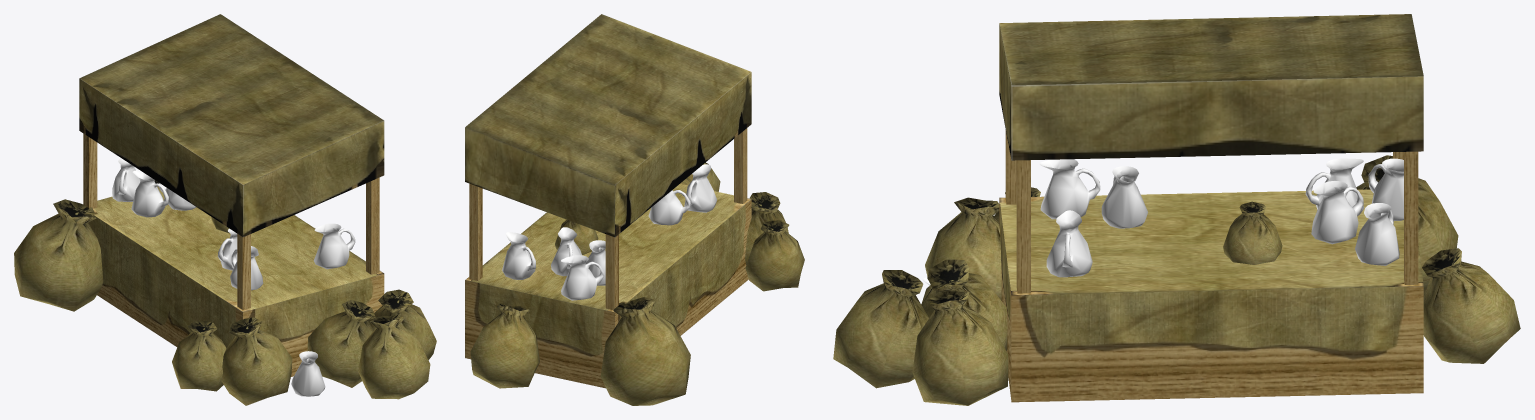
File: store02_2.fbx
3 renders of one model, left to right at view 1: azimuth 30°, elevation 25°; view 2: azimuth 150°, elevation 25°; view 3: azimuth 270°, elevation 25°, orthographic. The views are drawn at different scales.
Visible parts, largest first — view 1: stand_27, bag_225, bag_226, bag_227, bag_231, bag_228, bag_230, pot_99, pot_100, pot_98, pot_104, pot_102 (+2 smaller); view 2: stand_27, bag_225, bag_232, bag_228, pot_104, bag_226, pot_101, pot_102, pot_103, pot_97, bag_229, pot_100; view 3: stand_27, bag_230, bag_232, bag_227, bag_226, bag_231, bag_225, bag_229, pot_97, pot_102, pot_101, pot_99 (+3 smaller).
Part boxes in pixels (x1,y1,x2,y2): stand_27: [79, 14, 384, 376]; bag_225: [14, 199, 103, 311]; bag_226: [221, 317, 292, 405]; bag_227: [358, 314, 430, 399]; bag_231: [307, 300, 375, 387]; bag_228: [172, 321, 226, 391]; bag_230: [368, 289, 436, 360]; pot_99: [313, 223, 355, 269]; pot_100: [131, 170, 168, 217]; pot_98: [291, 351, 325, 396]; pot_104: [112, 158, 140, 201]; pot_102: [230, 246, 263, 290]; stand_27: [465, 14, 751, 388]; bag_225: [600, 297, 690, 405]; bag_232: [470, 303, 539, 388]; bag_228: [745, 220, 804, 291]; pot_104: [561, 255, 604, 300]; bag_226: [745, 192, 788, 276]; pot_101: [502, 232, 535, 279]; pot_102: [684, 164, 716, 212]; pot_103: [648, 190, 690, 225]; pot_97: [551, 227, 581, 276]; bag_229: [555, 220, 598, 254]; pot_100: [585, 240, 605, 285]; stand_27: [999, 14, 1423, 402]; bag_230: [912, 291, 1008, 405]; bag_232: [1422, 248, 1520, 363]; bag_227: [833, 270, 928, 388]; bag_226: [925, 197, 1001, 300]; bag_231: [921, 259, 1007, 350]; bag_225: [1356, 155, 1458, 294]; bag_229: [1223, 201, 1282, 264]; pot_97: [1311, 181, 1363, 244]; pot_102: [1039, 159, 1100, 219]; pot_101: [1355, 203, 1399, 265]; pot_99: [1046, 210, 1092, 277].
Bounding box in the file's own units: 63.5 × 58.02 × 109.
